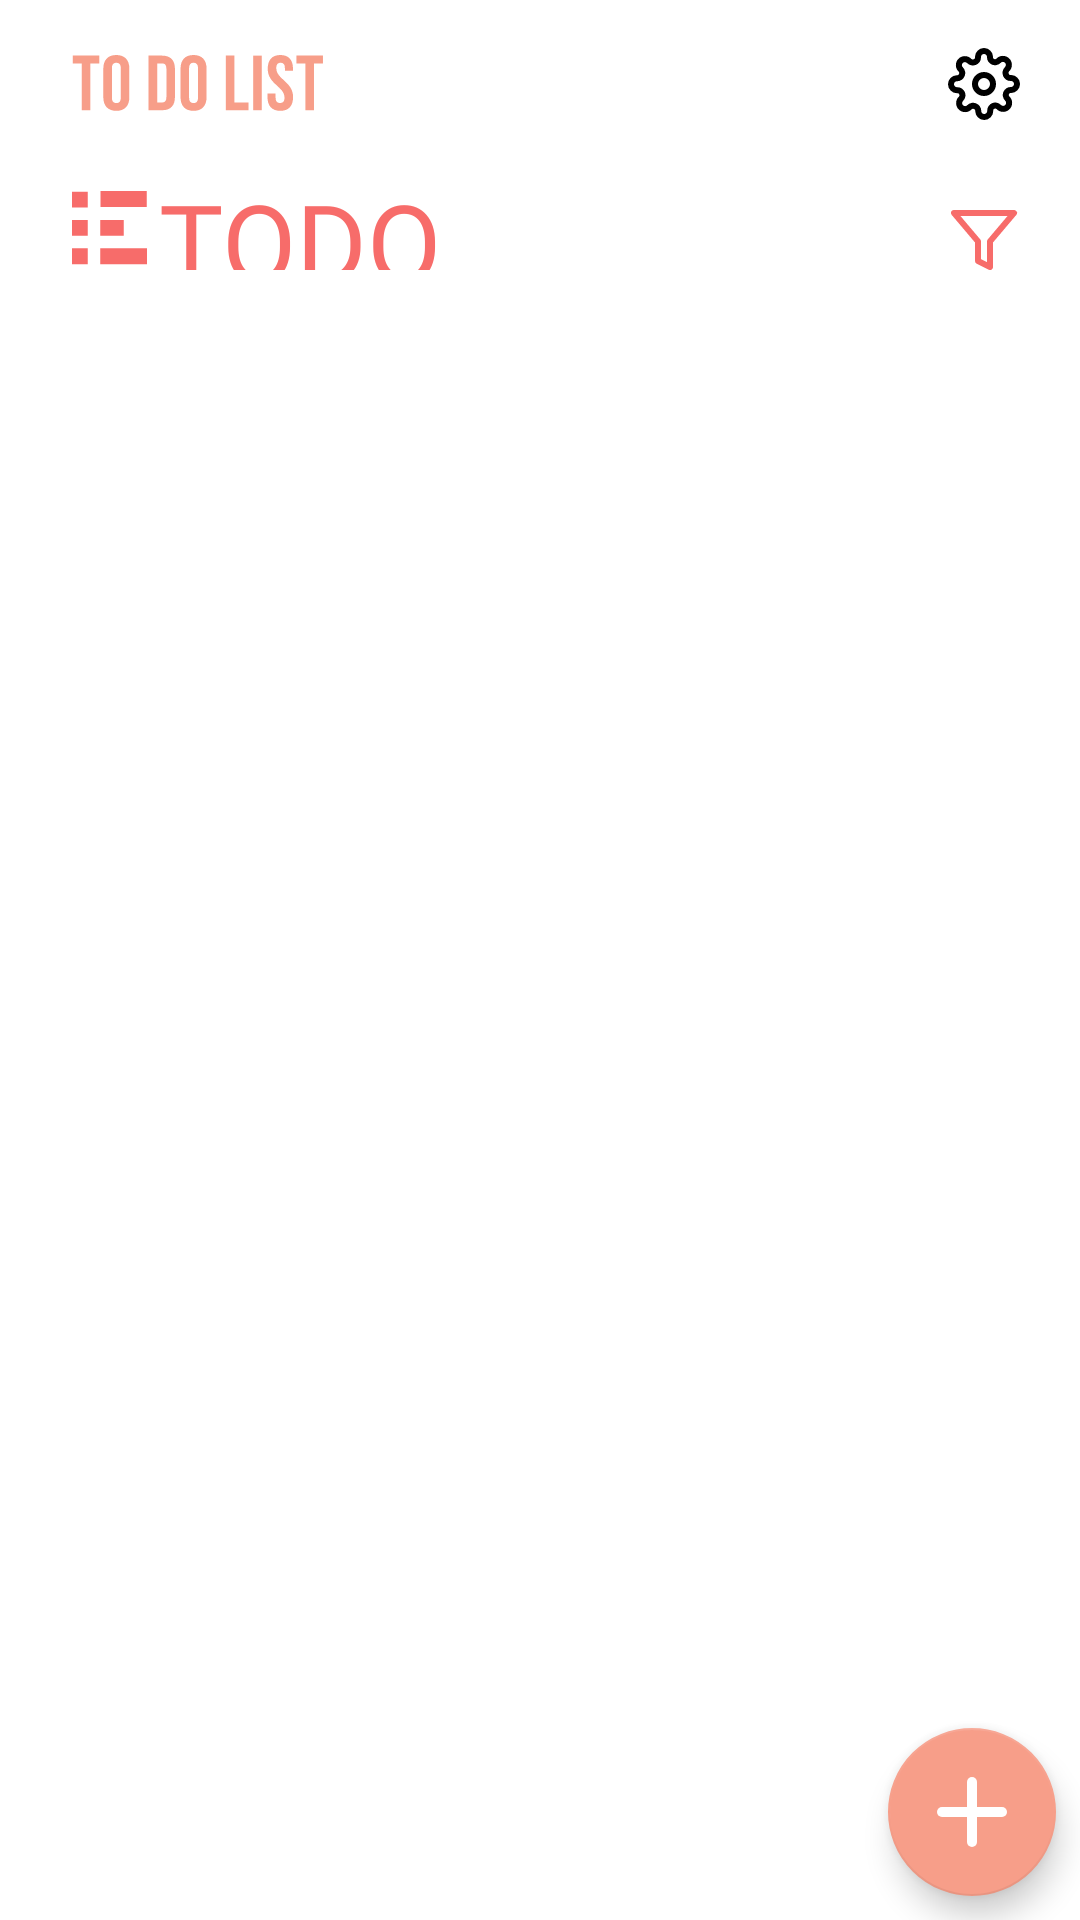

Icon click points for this 1080 x 1920 phone screenshot, format point (x, y):
Add new todo: point (972, 1812)
filter: point (984, 240)
settings: point (984, 84)
